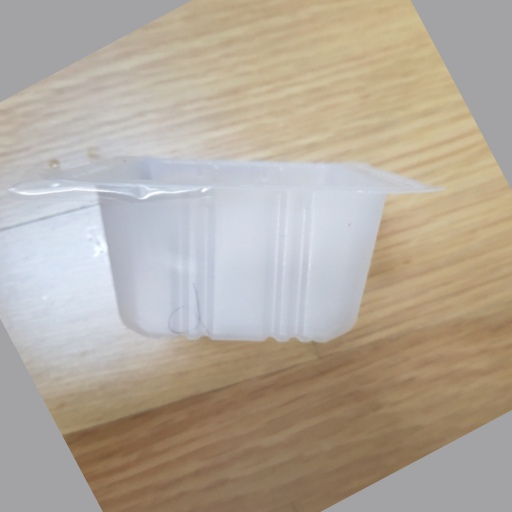Plastic_4: (44, 152, 443, 345)
